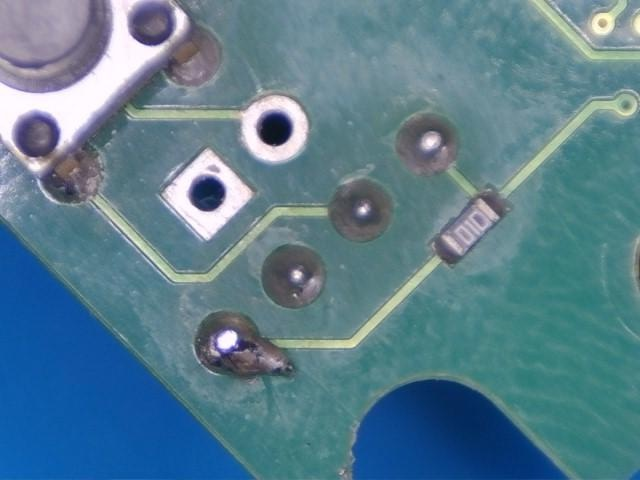pcb_defect: (193, 311, 297, 382)
